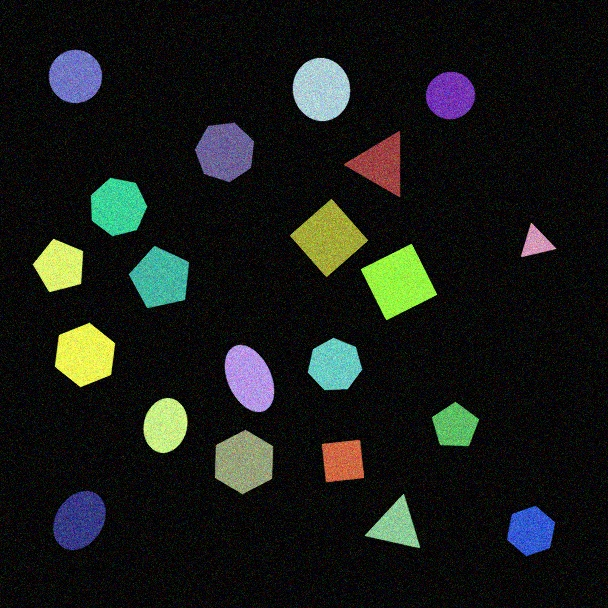Circulo: (292, 57, 351, 122), (48, 49, 103, 104), (425, 71, 476, 120)
Elipse: (224, 344, 275, 413), (52, 490, 107, 551), (143, 397, 188, 454)
Heptagono: (194, 122, 255, 183), (90, 177, 148, 237), (307, 337, 363, 391)
Hexagono: (54, 322, 116, 388), (214, 429, 274, 495), (506, 505, 556, 557)
Pentagono: (128, 245, 190, 309), (32, 238, 84, 293), (431, 401, 480, 447)
Quadrado: (289, 198, 369, 278), (360, 243, 438, 321), (321, 439, 365, 483)
Triangulo: (344, 130, 401, 198), (364, 494, 421, 549), (520, 223, 557, 258)
